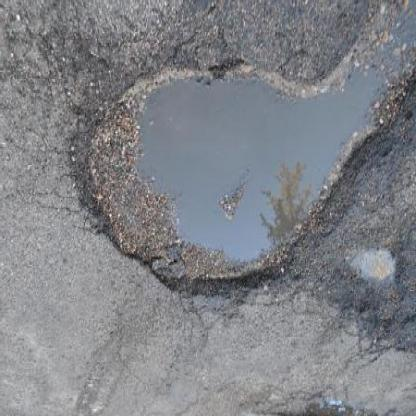pothole: (67, 60, 370, 308), (337, 244, 416, 339), (303, 399, 363, 416)
